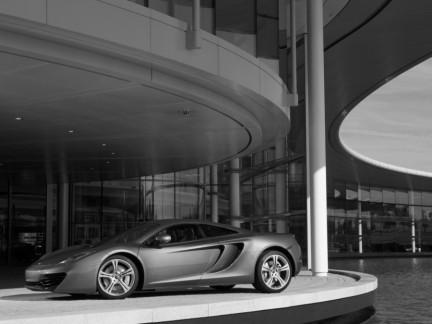car: (25, 219, 304, 302)
